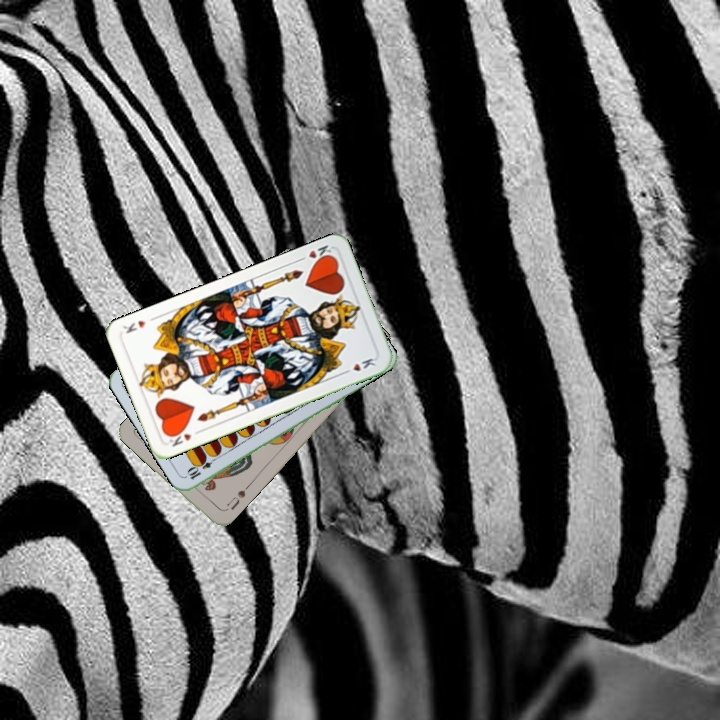E10: (183, 452, 220, 482)
HK: (294, 241, 336, 266), (163, 425, 203, 449)
SU: (223, 481, 251, 513)
